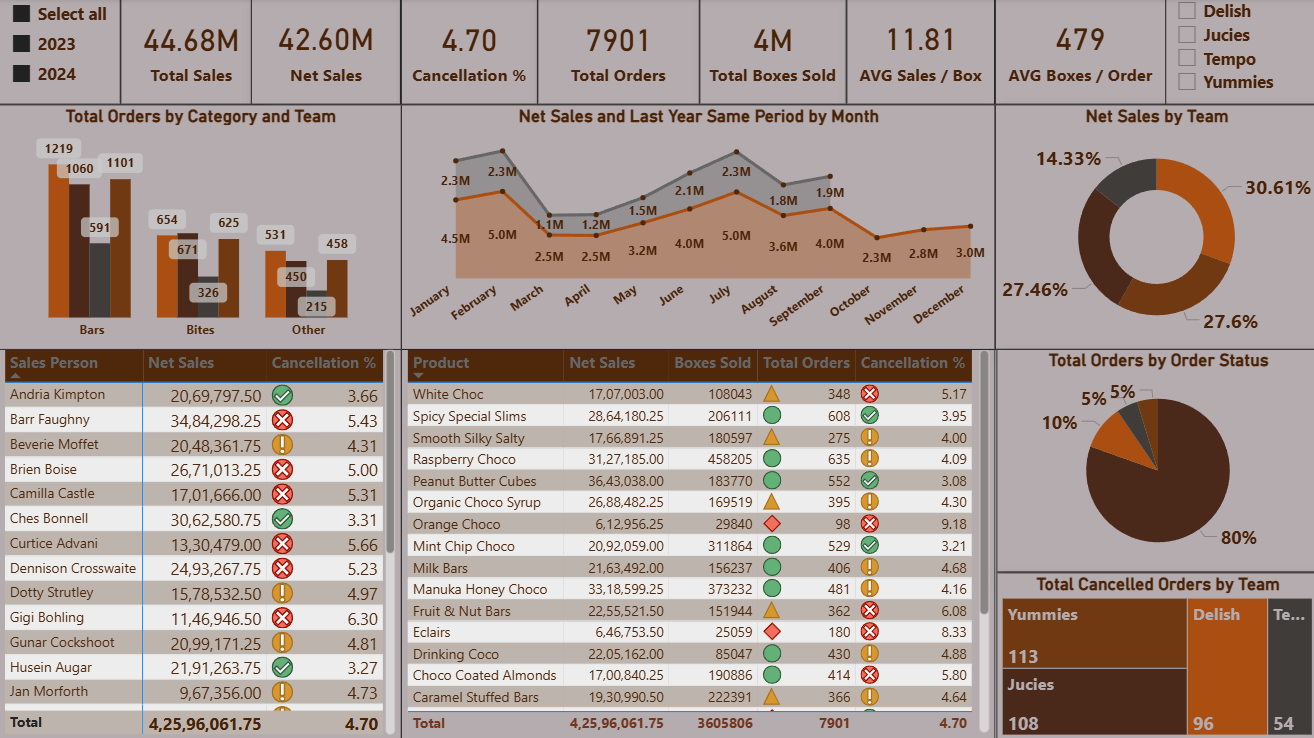

The dashboard page shown, as its layout file describes it:
{"tool":"powerbi","page":{"name":"Performance Overview","canvas":[1280,720],"ordinal":0},"visuals":[{"type":"card","fields":{"Values":["Shipments.Total Sales"]},"box":[118.2,0,137.6,103.6],"z":0},{"type":"tableEx","fields":{"Values":["Products.Product","Shipments.Net Sales","Shipments.Total Boxes Sold","Shipments.Total Orders","Shipments.Cancellation %"]},"box":[390.7,340.7,576.9,378.6],"z":1000},{"type":"slicer","fields":{"Values":["Calender.Year"]},"box":[0,0,118.2,103.6],"z":2000},{"type":"slicer","fields":{"Values":["Person.Team"]},"box":[1131,0,149.9,103.3],"z":3000},{"type":"card","fields":{"Values":["Shipments.Net Sales"]},"box":[244.5,0,145.6,103.3],"z":4000},{"type":"card","fields":{"Values":["Shipments.Cancellation %"]},"box":[390.2,0,132.8,103.6],"z":5000},{"type":"card","fields":{"Values":["Shipments.Total Orders"]},"box":[523,0,157.1,103.6],"z":6000},{"type":"card","fields":{"Values":["Shipments.Total Boxes Sold"]},"box":[680.1,0,142.5,103.6],"z":7000},{"type":"card","fields":{"Values":["Shipments.Avg Sales per Box"]},"box":[822.4,0,144.1,103.3],"z":8000},{"type":"card","fields":{"Values":["Shipments.Average Boxes per Order"]},"box":[966.5,0,165.9,103.3],"z":9000},{"type":"donutChart","fields":{"Y":["Shipments.Net Sales"],"Category":["Person.Team"]},"box":[966.1,103,313.4,237.7],"z":10000},{"type":"pieChart","fields":{"Category":["Shipments.Order_Status"],"Y":["Shipments.Total Orders"]},"box":[967.6,340.7,313.4,216.5],"z":11000},{"type":"treemap","fields":{"Group":["Person.Team"],"Values":["Shipments.Total Cancelled Orders"]},"box":[968.3,557,312.5,163.5],"z":12000},{"type":"stackedAreaChart","title":"Net Sales and Last Year Same Period by Month","fields":{"Category":["Calender.Month Name"],"Y":["Shipments.Net Sales","Shipments.Last Year Same Period"]},"box":[390.7,103,576.9,237.7],"z":13000},{"type":"lineClusteredColumnComboChart","fields":{"Category":["Products.Category"],"Y":["Shipments.Total Orders"],"Series":["Person.Team"]},"box":[0,103,390.7,237.7],"z":14000},{"type":"pivotTable","fields":{"Rows":["Person.Sales_person"],"Values":["Shipments.Net Sales","Shipments.Cancellation %"]},"box":[0,340.7,390.7,380.1],"z":15000}]}

Visuals, with their boxes in screenshot pixels (x1, y1, x2, y2), scaled from the page's 1280x720 canvas onto the 1314x738 screenshot:
card - Shipments.Total Sales: {"left": 121, "top": 0, "right": 263, "bottom": 106}
tableEx - Products.Product x Shipments.Net Sales: {"left": 401, "top": 349, "right": 993, "bottom": 737}
slicer - Calender.Year: {"left": 0, "top": 0, "right": 121, "bottom": 106}
slicer - Person.Team: {"left": 1161, "top": 0, "right": 1313, "bottom": 106}
card - Shipments.Net Sales: {"left": 251, "top": 0, "right": 400, "bottom": 106}
card - Shipments.Cancellation %: {"left": 401, "top": 0, "right": 537, "bottom": 106}
card - Shipments.Total Orders: {"left": 537, "top": 0, "right": 698, "bottom": 106}
card - Shipments.Total Boxes Sold: {"left": 698, "top": 0, "right": 844, "bottom": 106}
card - Shipments.Avg Sales per Box: {"left": 844, "top": 0, "right": 992, "bottom": 106}
card - Shipments.Average Boxes per Order: {"left": 992, "top": 0, "right": 1162, "bottom": 106}
donutChart - Shipments.Net Sales x Person.Team: {"left": 992, "top": 106, "right": 1313, "bottom": 349}
pieChart - Shipments.Order_Status x Shipments.Total Orders: {"left": 993, "top": 349, "right": 1313, "bottom": 571}
treemap - Person.Team x Shipments.Total Cancelled Orders: {"left": 994, "top": 571, "right": 1313, "bottom": 737}
"Net Sales and Last Year Same Period by Month" stackedAreaChart: {"left": 401, "top": 106, "right": 993, "bottom": 349}
lineClusteredColumnComboChart - Products.Category x Shipments.Total Orders: {"left": 0, "top": 106, "right": 401, "bottom": 349}
pivotTable - Person.Sales_person x Shipments.Net Sales: {"left": 0, "top": 349, "right": 401, "bottom": 737}
